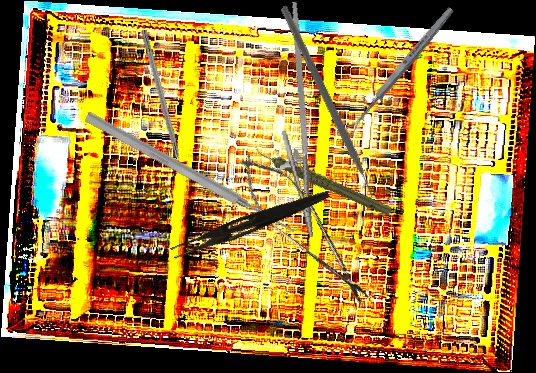Chopper: (212, 4, 437, 214)
Dressing Forceps: (169, 182, 332, 265)
Handpiece: (252, 118, 394, 241)
Hook Surgical: (139, 29, 188, 181)
Micro Scissor: (224, 140, 386, 318)
Needle Holder: (246, 1, 342, 241)
Pusher: (82, 109, 299, 239)
Surgical Spoon: (343, 5, 456, 137)
